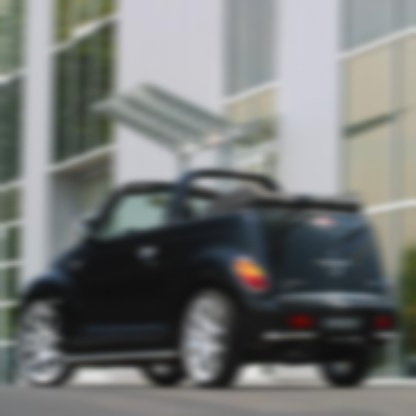Vehicle: (9, 153, 410, 403)
